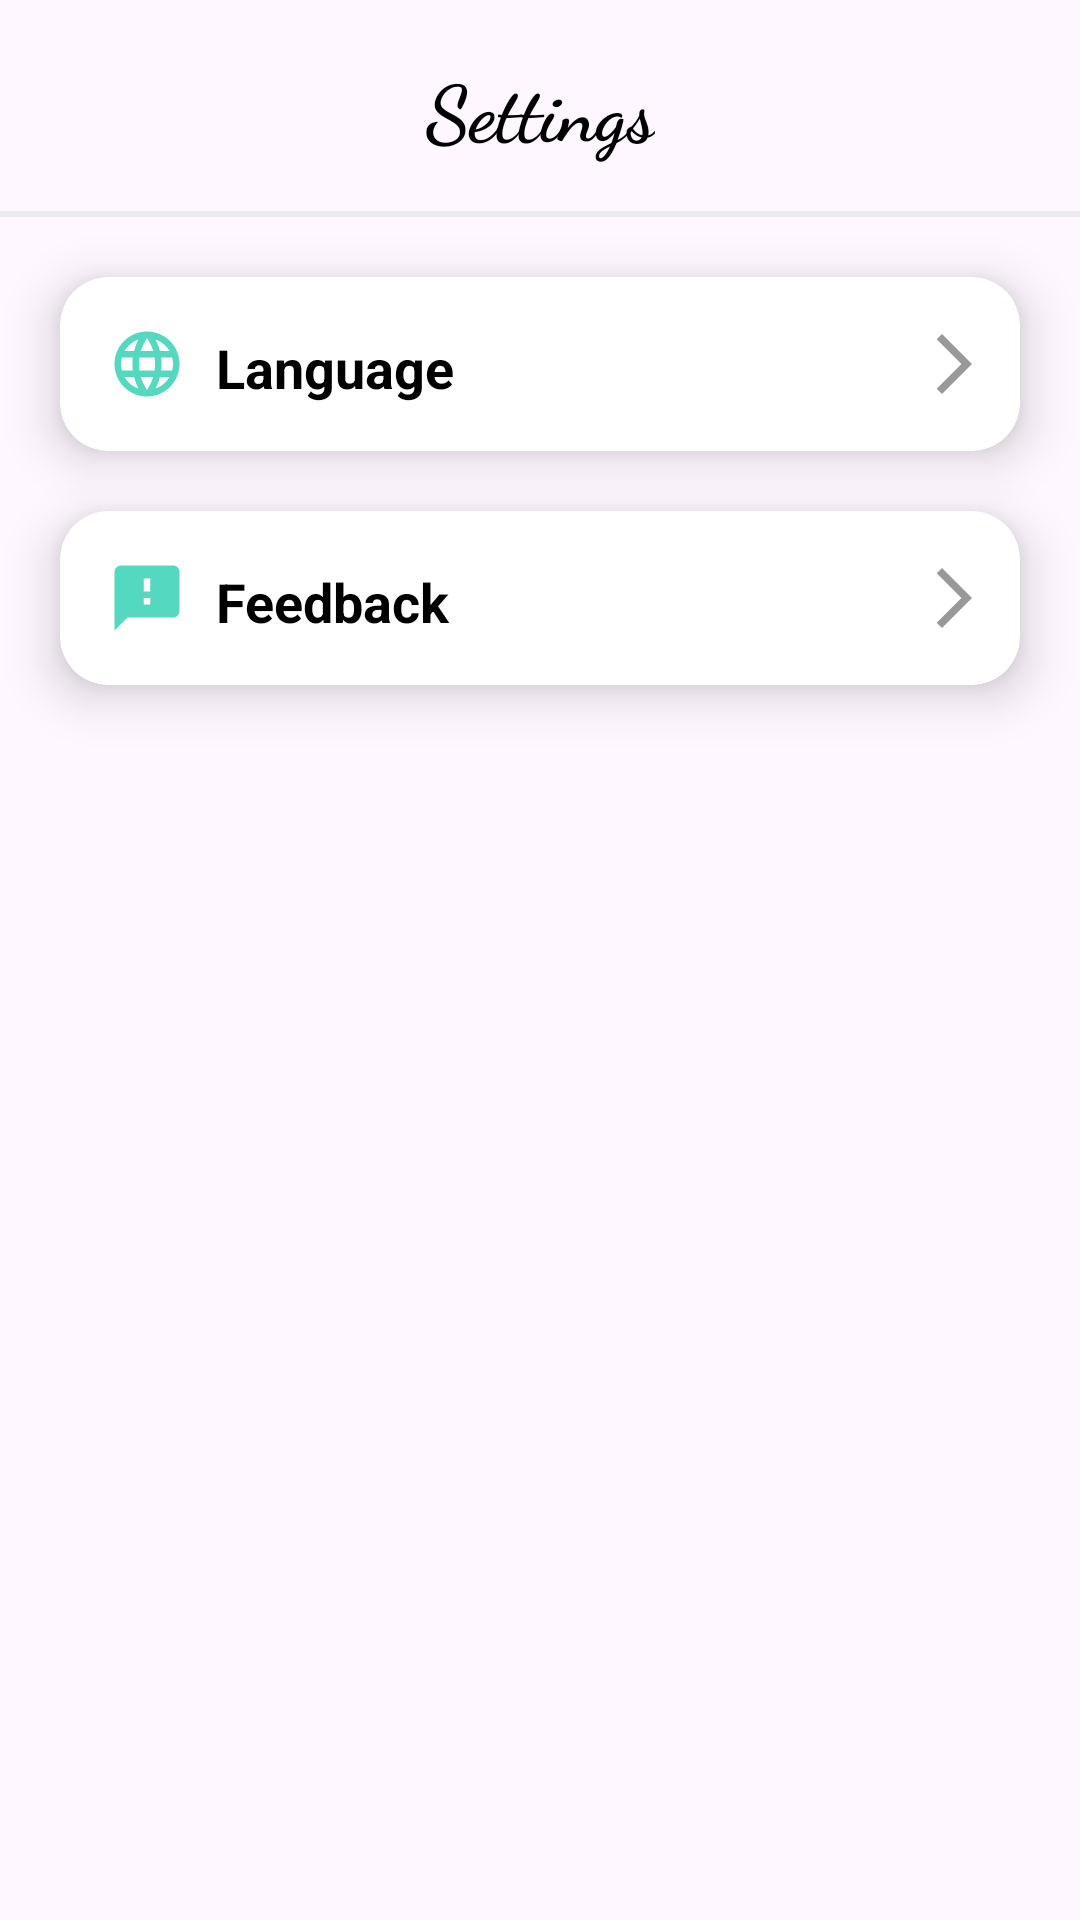

Point at icon controls on the screen. Image size 1080*1920, points as (x=x, y=y).
arrow: (x=954, y=364), (x=954, y=598)
